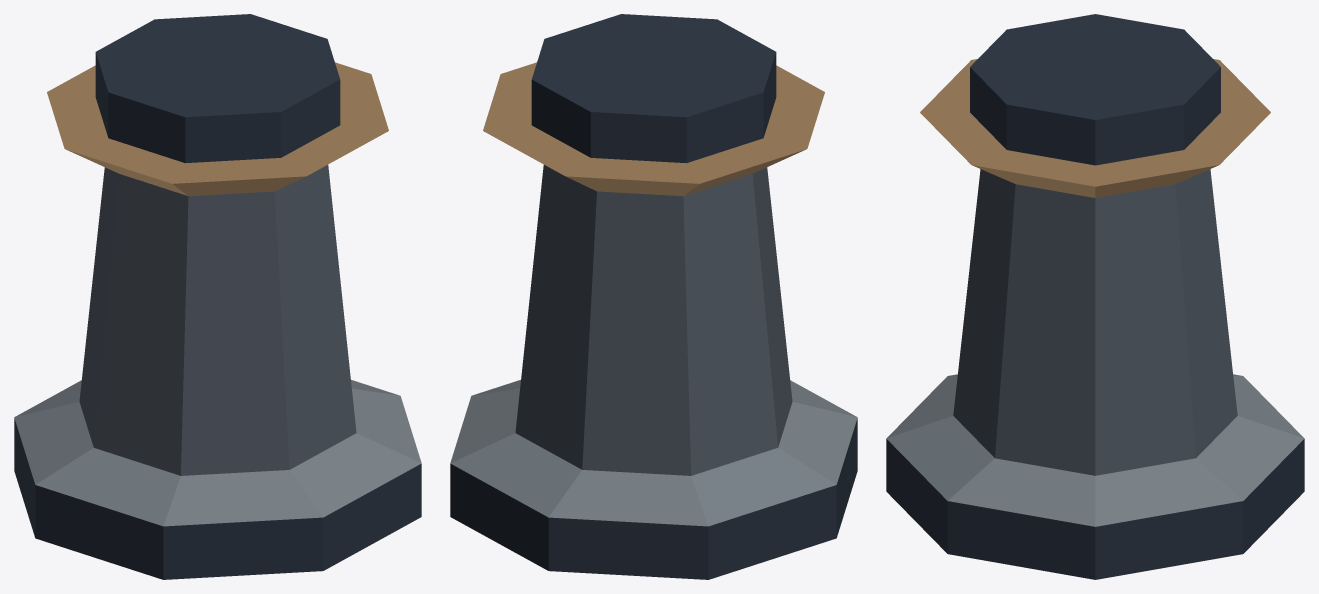
Rendered from beacon-idle.glb.
The picture shows the model from 3 angles, left to right: view 1: azimuth 30°, elevation 25°; view 2: azimuth 150°, elevation 25°; view 3: azimuth 270°, elevation 25°; orthographic projection.
Parts seen in each view (by area): view 1: beacon-idle__body; view 2: beacon-idle__body; view 3: beacon-idle__body.
Part boxes in pixels (x1=…): beacon-idle__body: x1=14, y1=14, x2=421, y2=579; beacon-idle__body: x1=450, y1=14, x2=857, y2=579; beacon-idle__body: x1=886, y1=14, x2=1304, y2=579.
Bounding box in the file's own units: 1 × 1.12 × 1.
